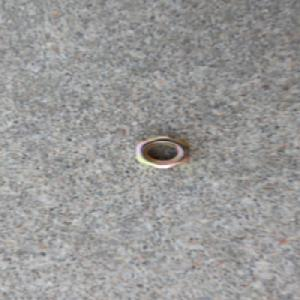Nut: (134, 135, 191, 171)
